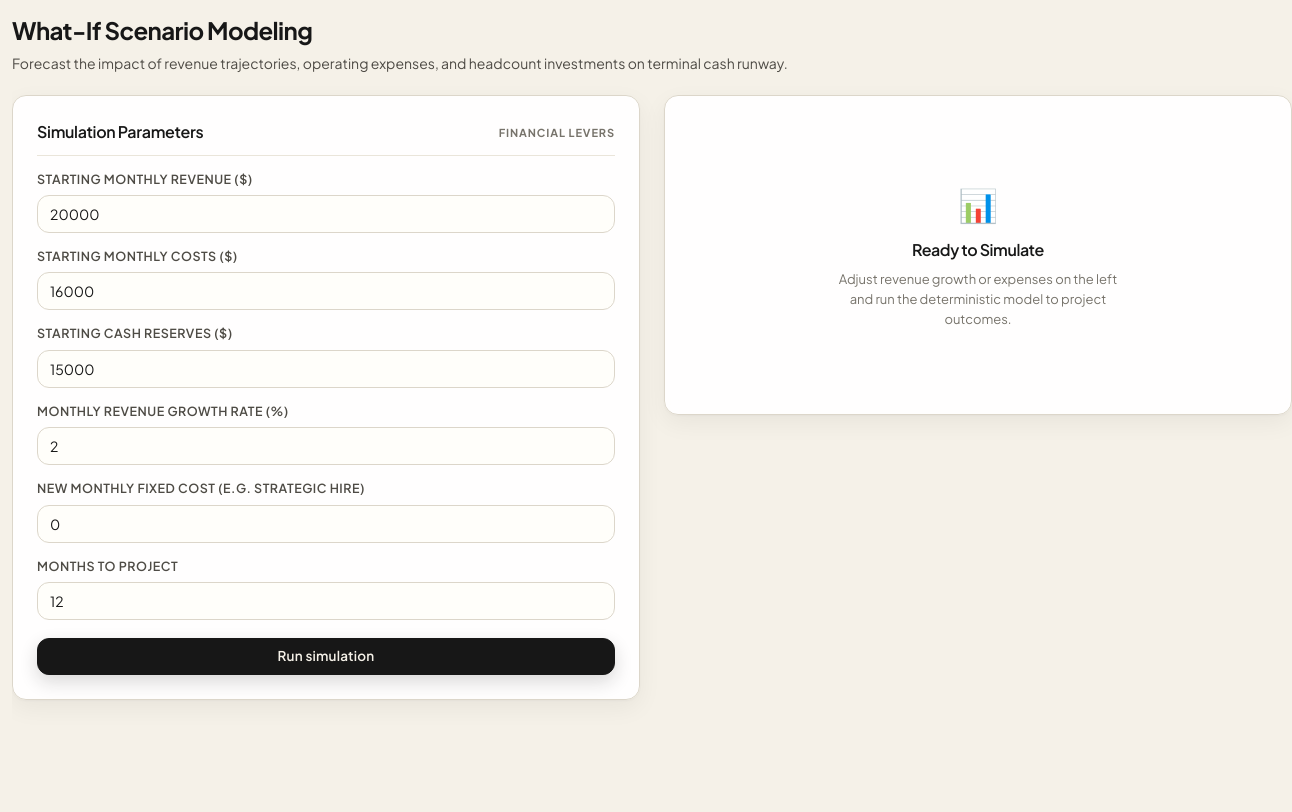
Test case: Simulator › runs a simulation and renders the ending cash result
The width and height of the screenshot is (1292, 812).
Click the button "Run simulation".
click(326, 656)  # box [37,638,615,675]
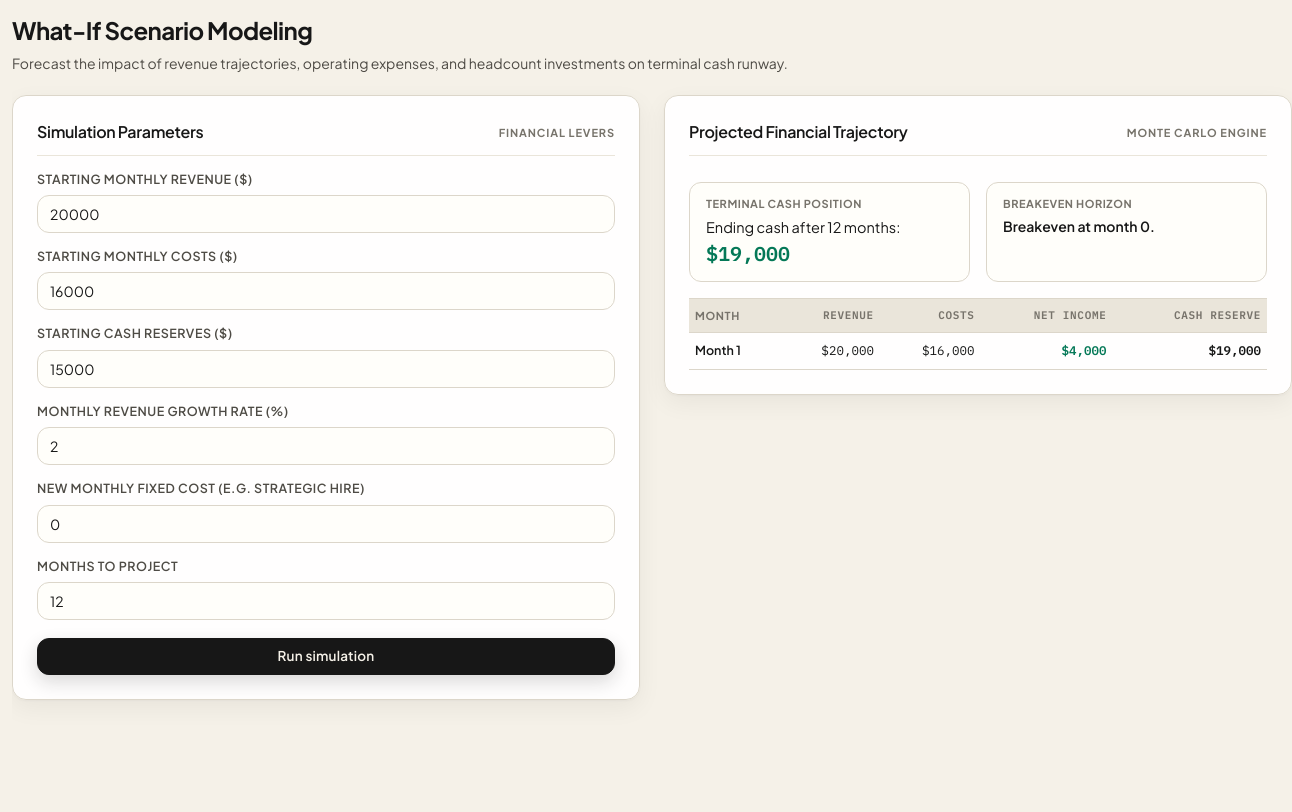
Check: the text "Ending cash after 12 months: $19,000" is shown, box [706,218,900,267]
Check: the text "$19,000" is shown, box [706,240,790,267]
Check: the text "Breakeven at month 0." is shown, box [1003,217,1155,235]
